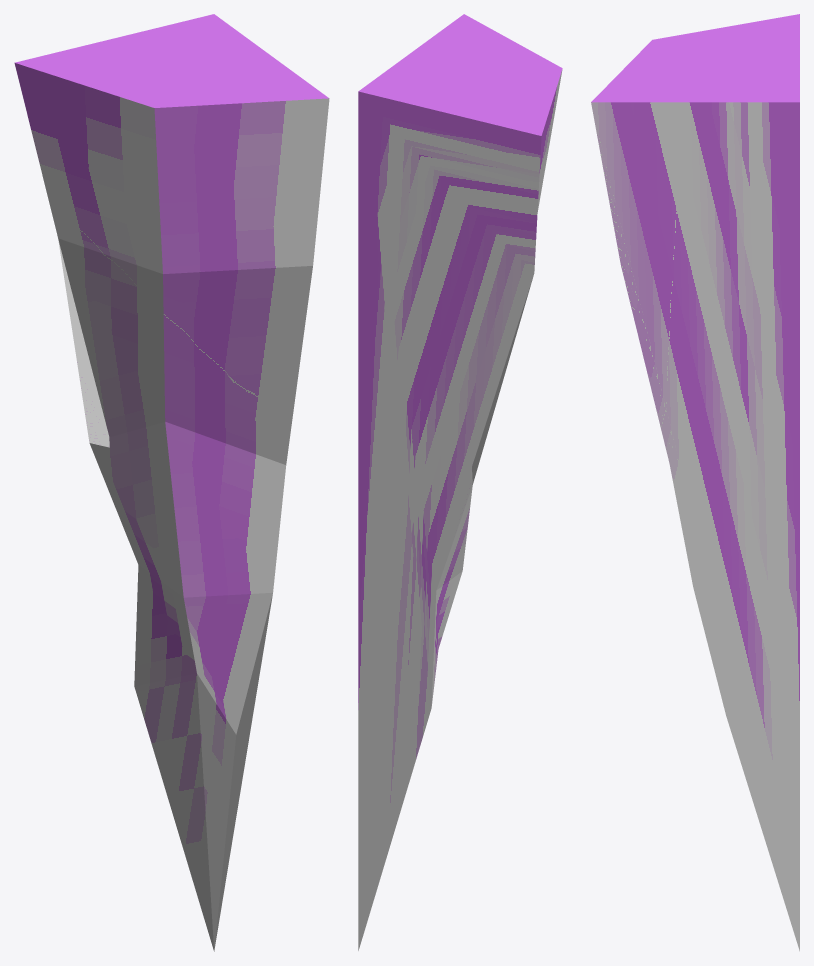
Rendered from IcicleBreak.gltf.
3 renders of one model, left to right at view 1: azimuth 30°, elevation 25°; view 2: azimuth 150°, elevation 25°; view 3: azimuth 270°, elevation 25°, orthographic. The views are drawn at different scales.
Parts seen in each view (by area): view 1: Icicle3; view 2: Icicle3; view 3: Icicle3.
Part boxes in pixels (<box>): Icicle3: <box>14,14,329,951</box>; Icicle3: <box>358,14,562,950</box>; Icicle3: <box>591,14,799,951</box>.
Size of the model in its own units: 1 by 4.49 by 1.
1 material, 1 textured.
